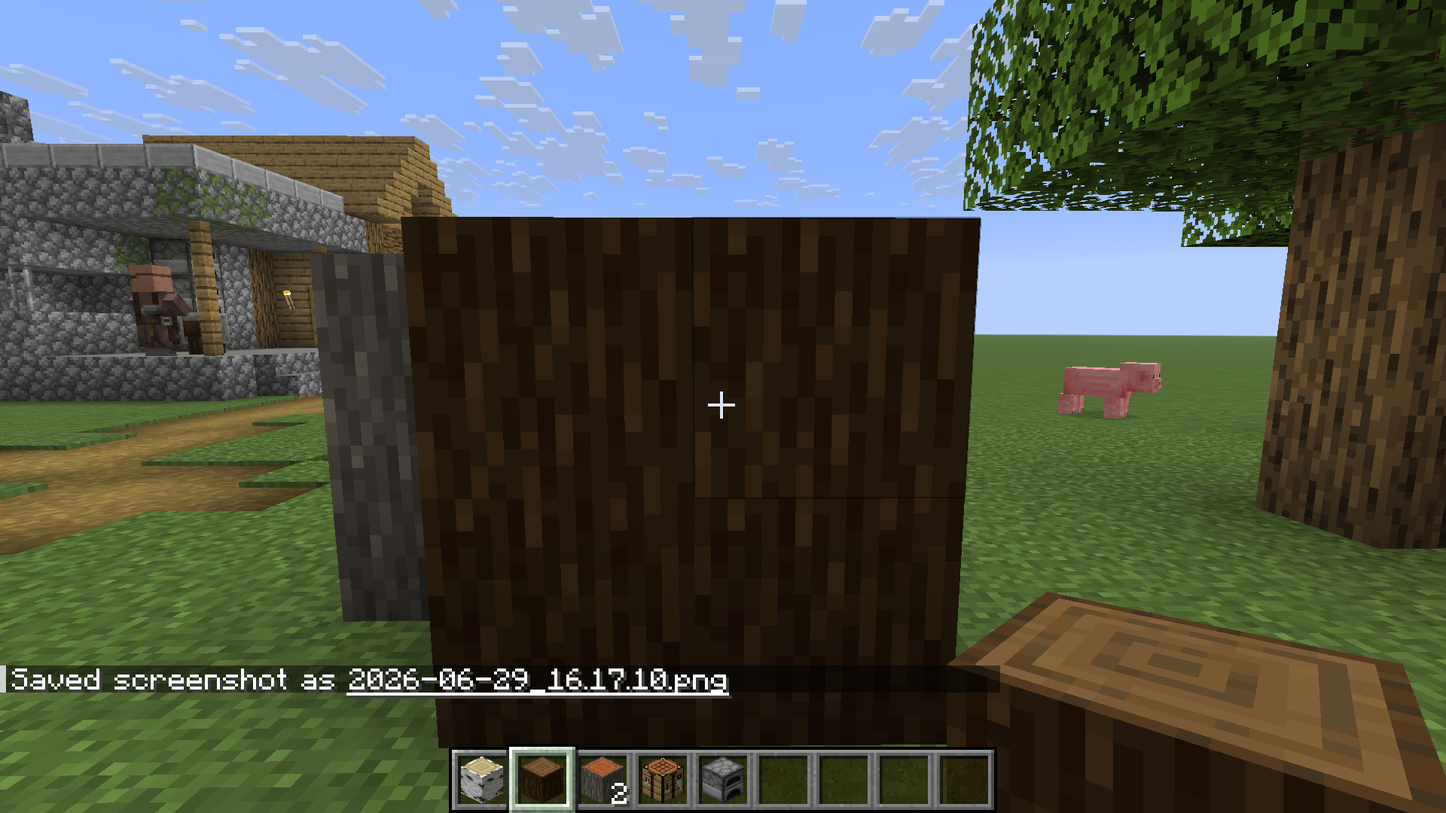Torch: (279, 280, 299, 317)
Tree: (970, 0, 1445, 547)
cablestone: (21, 219, 102, 275), (21, 169, 96, 215), (45, 353, 112, 399), (291, 205, 347, 246)
villager: (125, 259, 186, 361)
wood 2: (313, 255, 424, 621)
wood 3: (408, 219, 963, 665), (965, 591, 1427, 806)
